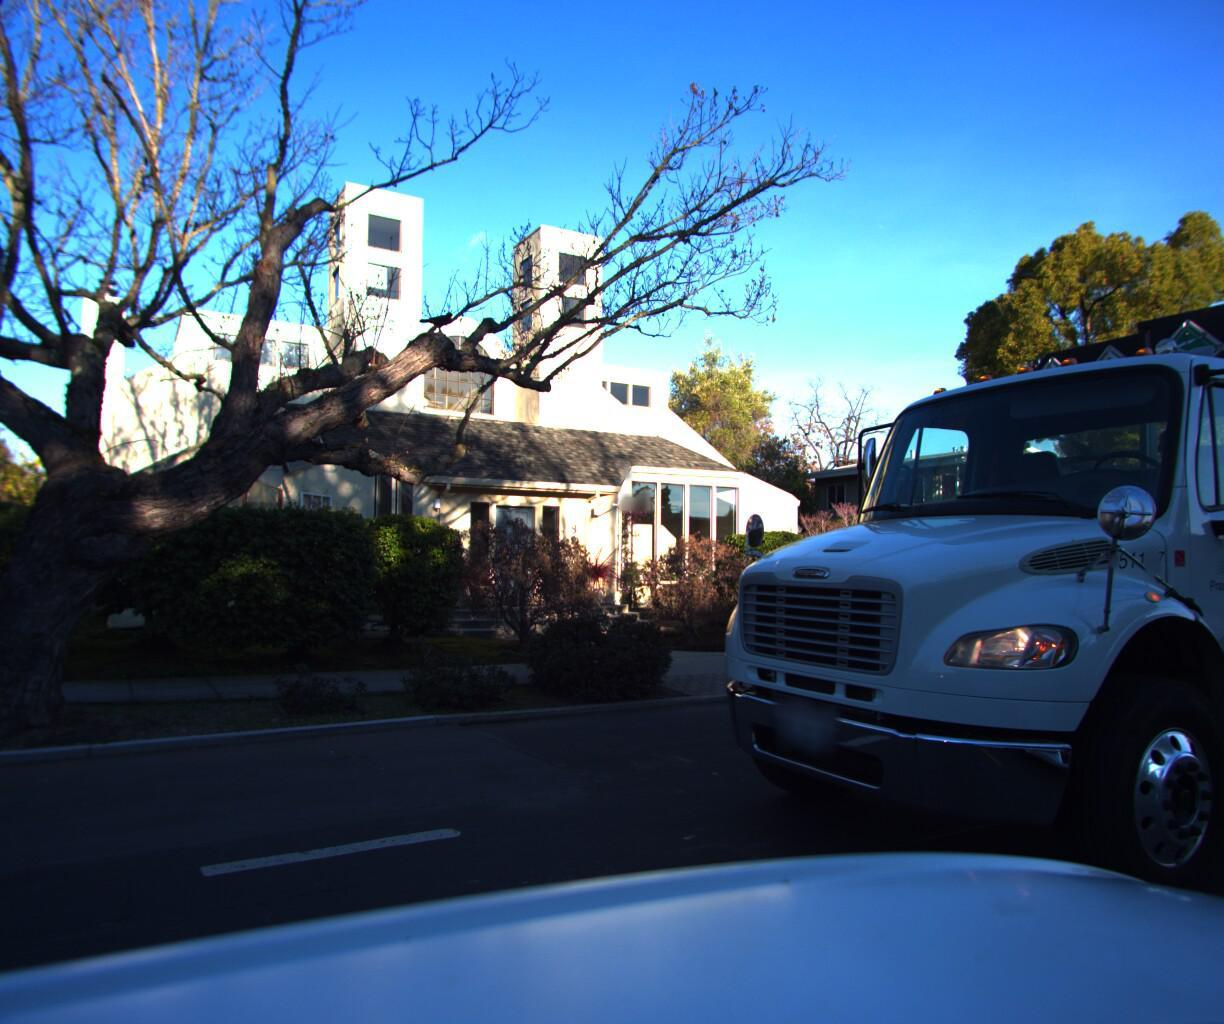truck: (599, 0, 1224, 1010)
